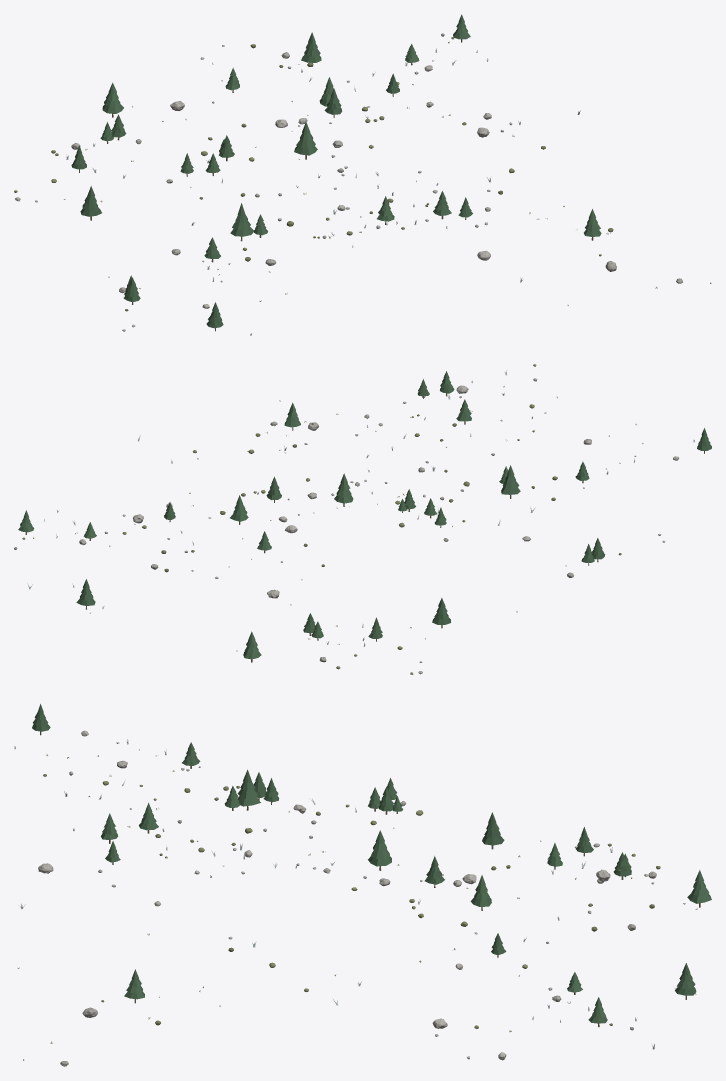
The model's file is coast_land_scatter_c09_23.glb.
The picture shows the model from 3 angles, top to bottom: view 1: azimuth 30°, elevation 25°; view 2: azimuth 150°, elevation 25°; view 3: azimuth 270°, elevation 25°; orthographic projection. The views are drawn at different scales.
Parts seen in each view (by area): view 1: coast_land_scatter_c09_23; view 2: coast_land_scatter_c09_23; view 3: coast_land_scatter_c09_23.
Boxes of the visible parts, left/top/right/bottom form: coast_land_scatter_c09_23: left=14, top=14, right=711, bottom=335; coast_land_scatter_c09_23: left=14, top=364, right=711, bottom=674; coast_land_scatter_c09_23: left=14, top=704, right=711, bottom=1066.
Size of the model in its own units: 247 by 58.08 by 259.
